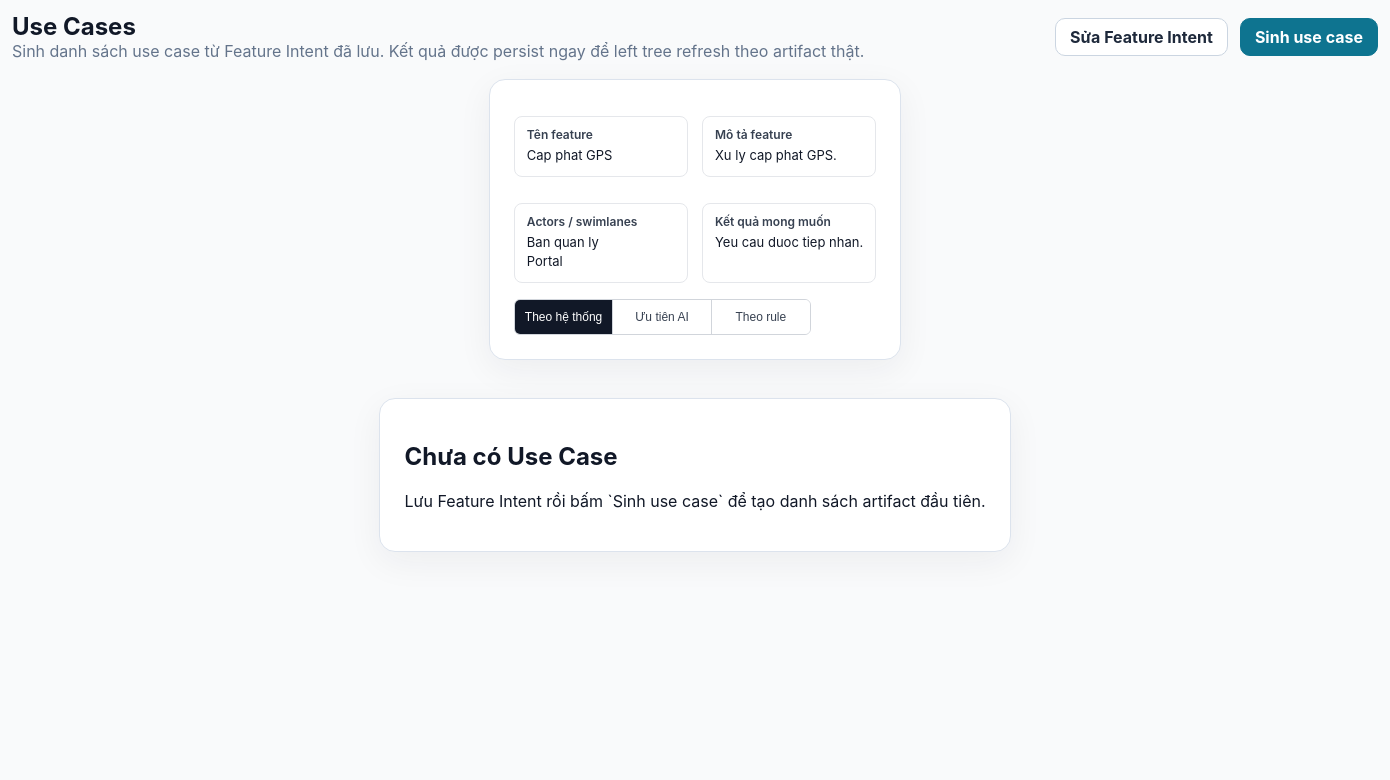
it: PersistedUseCaseWorkspace › generates and persists use cases immediately from the list route
Click the button "Sinh use case" at [1309, 36], box [1240,18,1378,56]
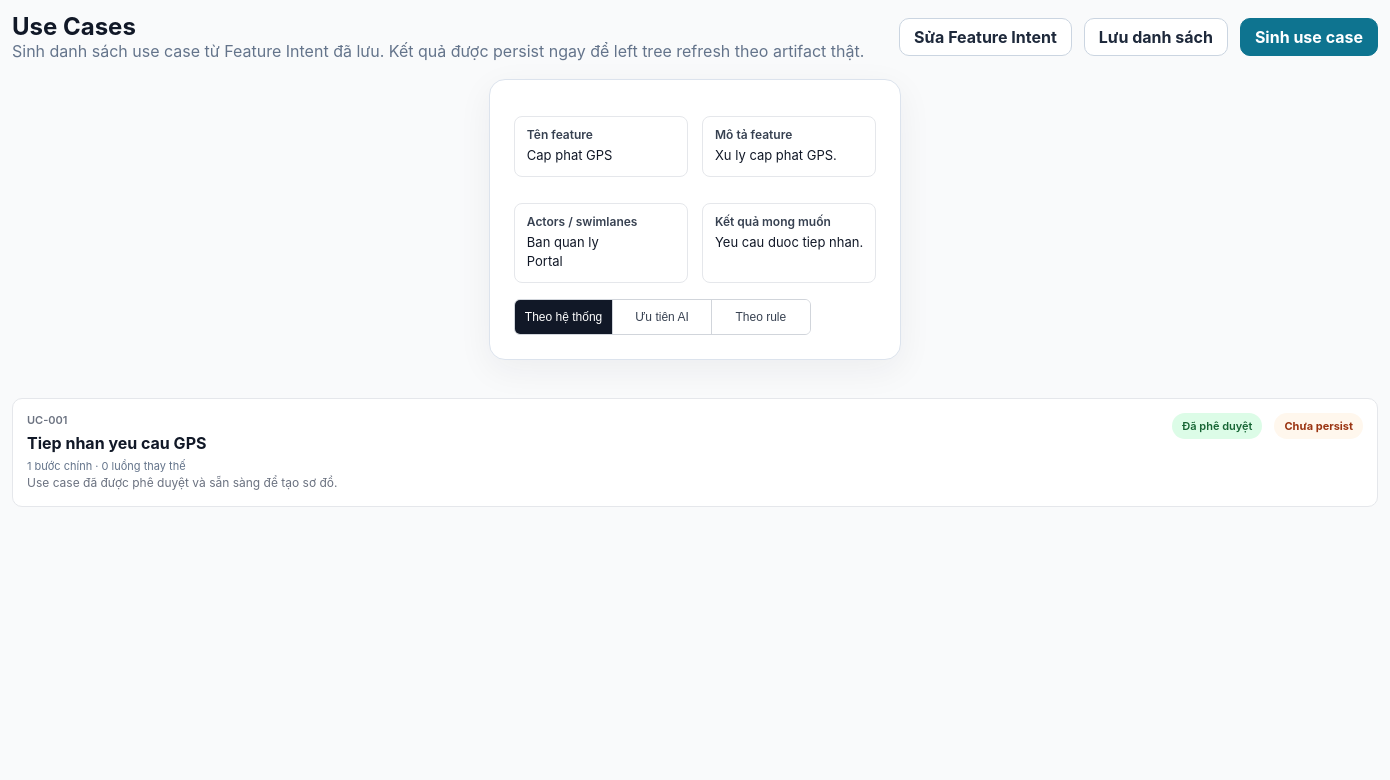
Result: the text "Tiep nhan yeu cau GPS" is shown at [27,432,206,452]
